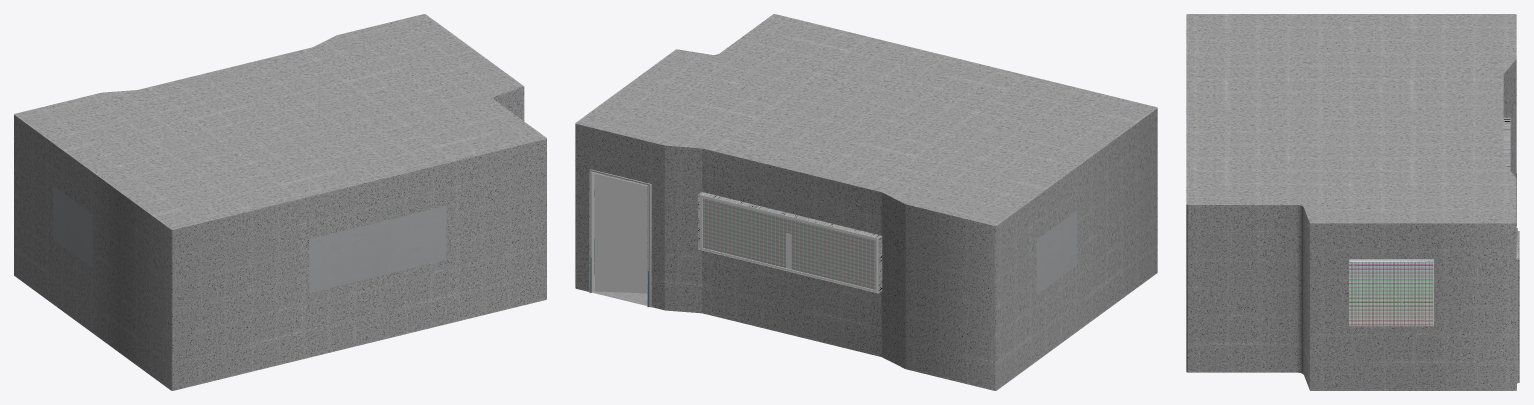
File: Room_Donning.FBX
The picture shows the model from 3 angles, left to right: view 1: azimuth 30°, elevation 25°; view 2: azimuth 150°, elevation 25°; view 3: azimuth 270°, elevation 25°; orthographic projection. The views are drawn at different scales.
Visible parts, largest first — view 1: Room_Donning_Blocker, Room_Donning; view 2: Room_Donning_Blocker, Room_Donning_WindowMeshes, Room_Donning_Door, Room_Donning; view 3: Room_Donning_Blocker, Room_Donning_WindowMeshes, Room_Donning, Room_Donning_Door.
Boxes of the visible parts, <box> form: Room_Donning_Blocker: <box>14,14,546,390</box>; Room_Donning: <box>53,186,446,292</box>; Room_Donning_Blocker: <box>575,14,1157,390</box>; Room_Donning_WindowMeshes: <box>702,198,875,289</box>; Room_Donning_Door: <box>589,169,651,307</box>; Room_Donning: <box>590,172,1076,306</box>; Room_Donning_Blocker: <box>1186,14,1519,390</box>; Room_Donning_WindowMeshes: <box>1349,261,1433,326</box>; Room_Donning: <box>1349,259,1434,326</box>; Room_Donning_Door: <box>1516,228,1517,383</box>.
Size of the model in its own units: 320 by 118 by 213.
